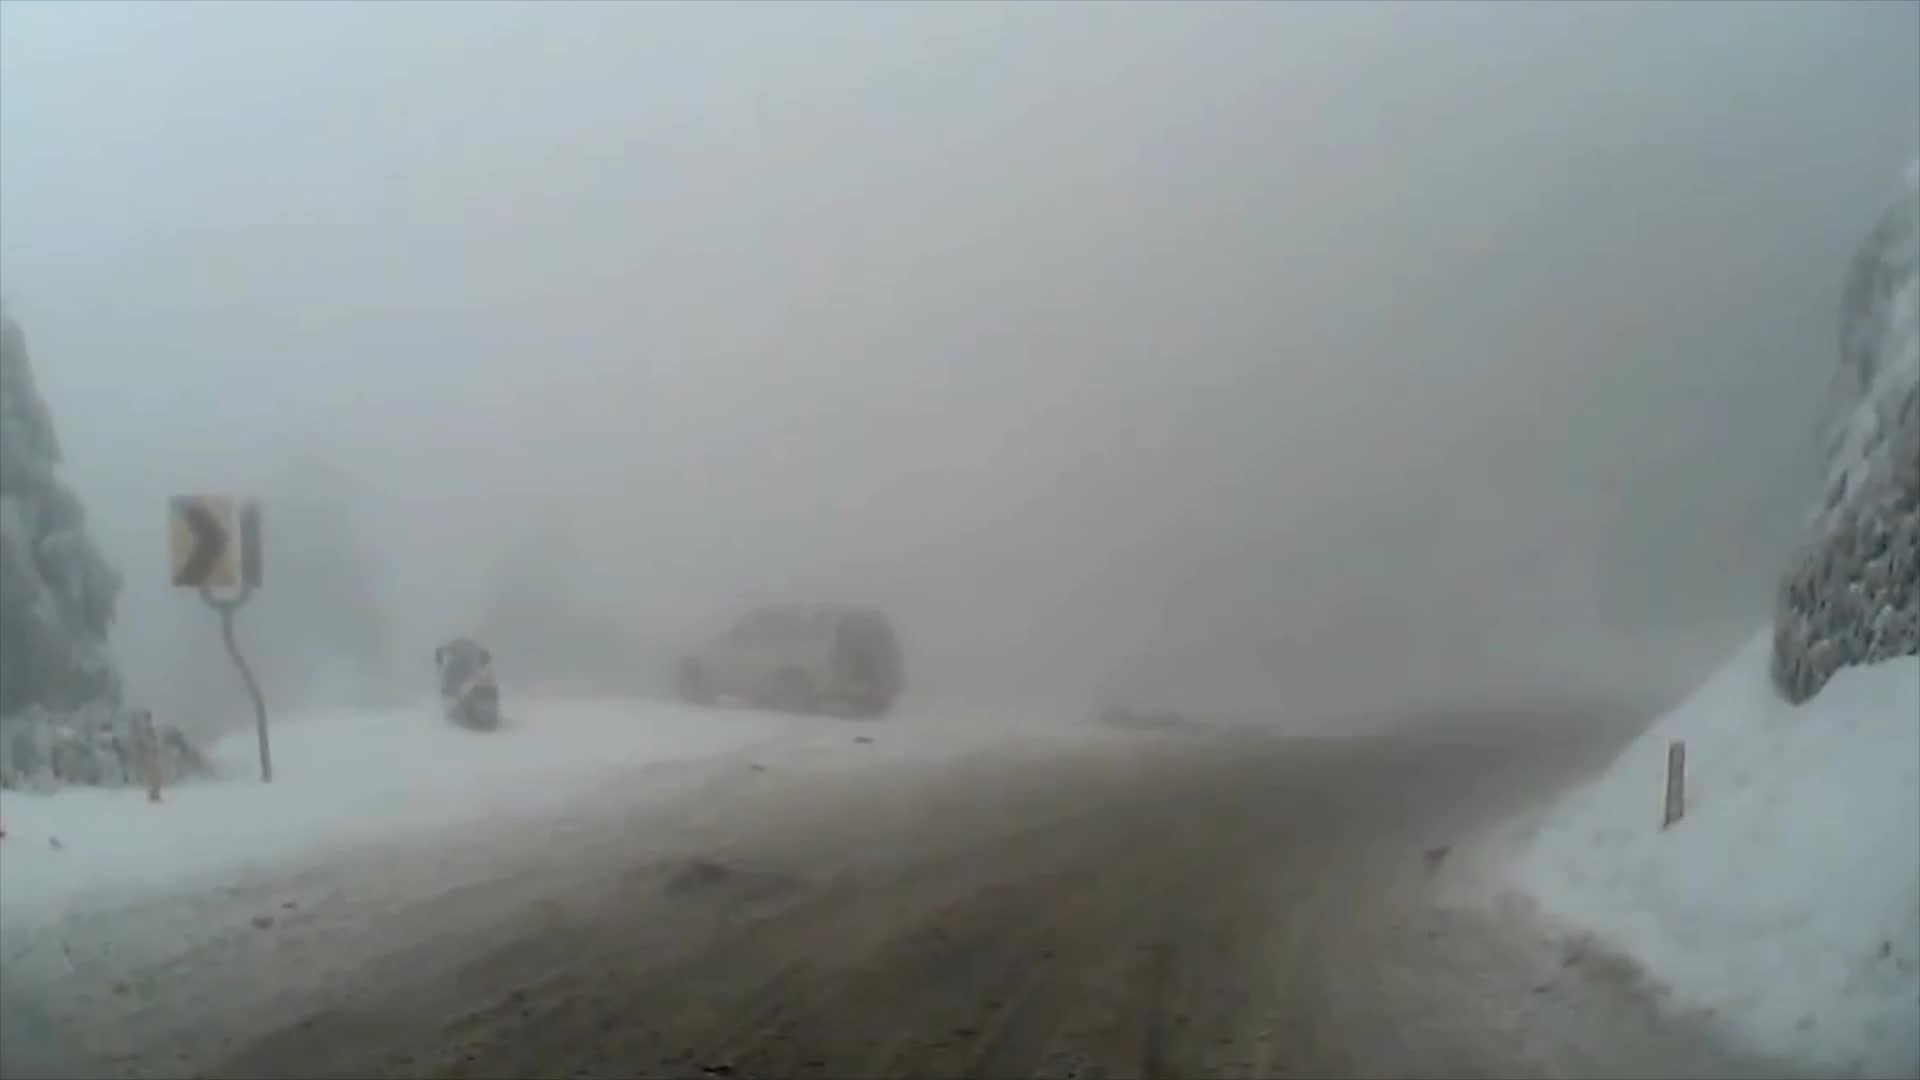vehicle: (665, 601, 895, 717)
